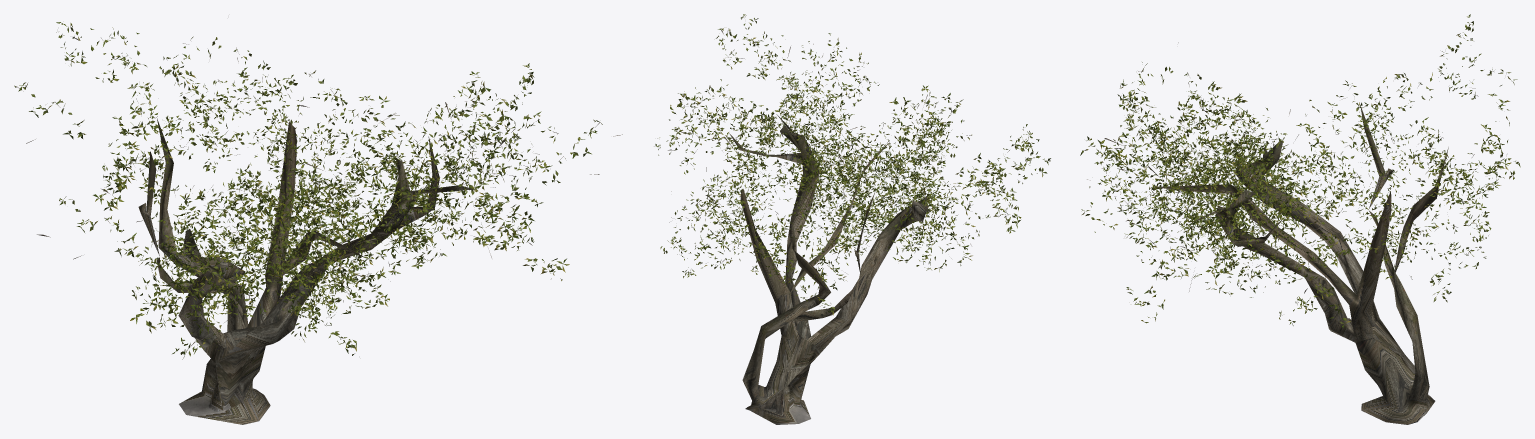
The model's file is island_tree_02.glb.
The picture shows the model from 3 angles, left to right: view 1: azimuth 30°, elevation 25°; view 2: azimuth 150°, elevation 25°; view 3: azimuth 270°, elevation 25°; orthographic projection. The views are drawn at different scales.
Parts seen in each view (by area): view 1: island_tree_02_LOD0; view 2: island_tree_02_LOD0; view 3: island_tree_02_LOD0.
Part boxes in pixels (box(x1,y1,x2,y2)): island_tree_02_LOD0: box(14, 22, 622, 424); island_tree_02_LOD0: box(654, 14, 1050, 424); island_tree_02_LOD0: box(1080, 14, 1520, 424).
Size of the model in its own units: 4.21 by 3.41 by 4.01.
3 materials, 3 textured.
